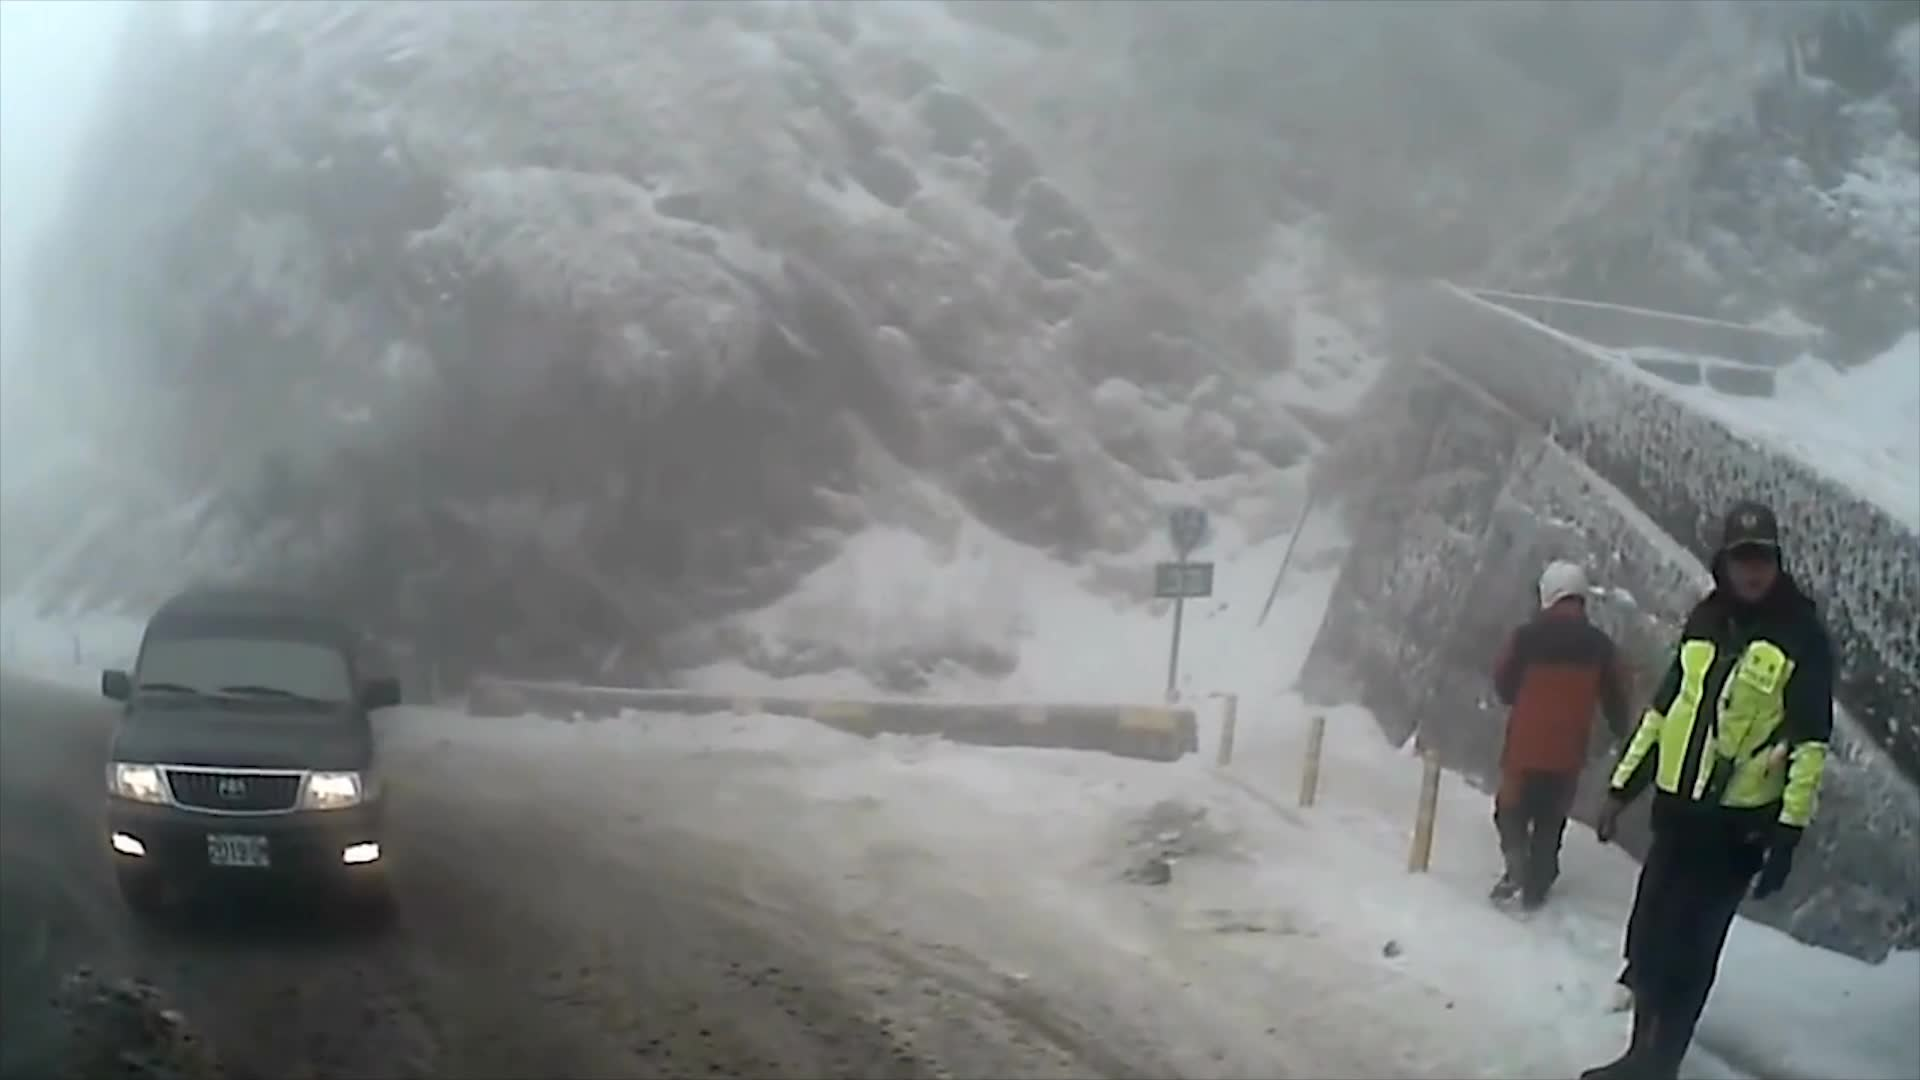pedestrian: (1576, 503, 1832, 1080), (1484, 559, 1628, 918)
vehicle: (97, 586, 399, 927)
